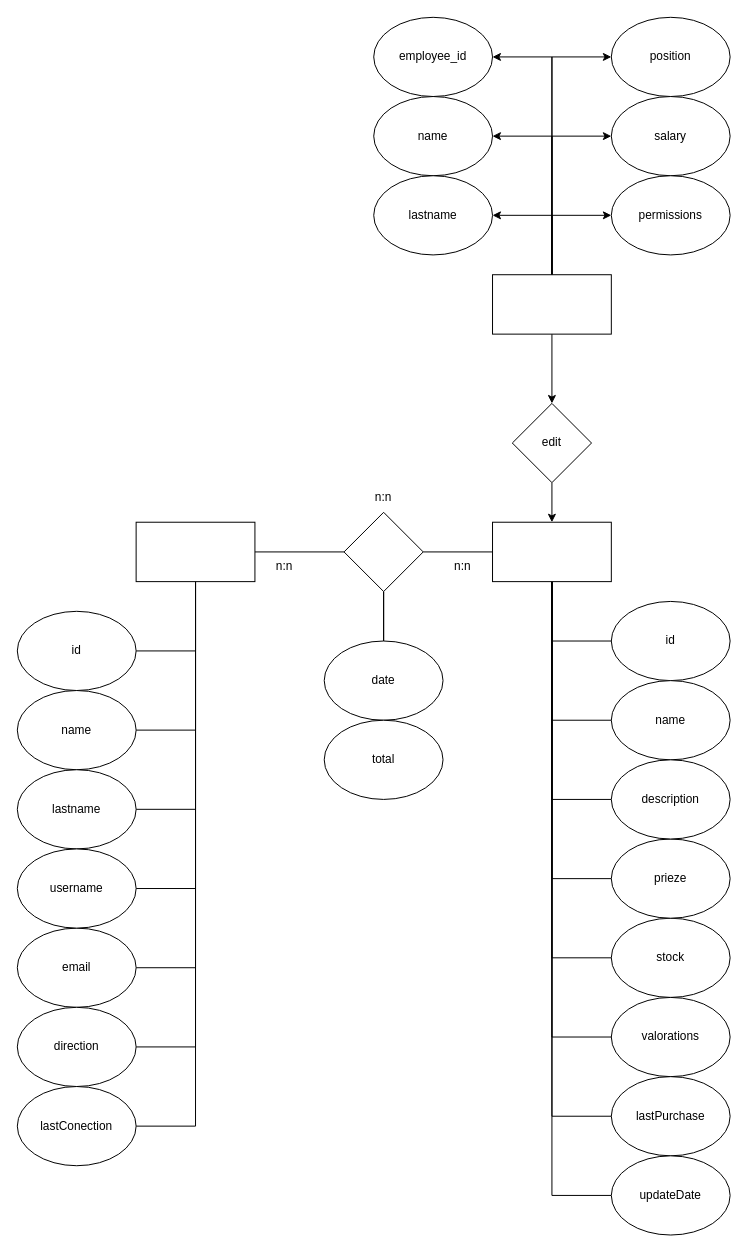
Some shapes in this 747 by 1252 pixel diagram are drawn without their labels. Each missing label, with the centre of its shape:
"Buy" belongs at pixel 383 551.
"employees" belongs at pixel 551 304.
"Products" belongs at pixel 551 551.
"Users" belongs at pixel 195 551.
